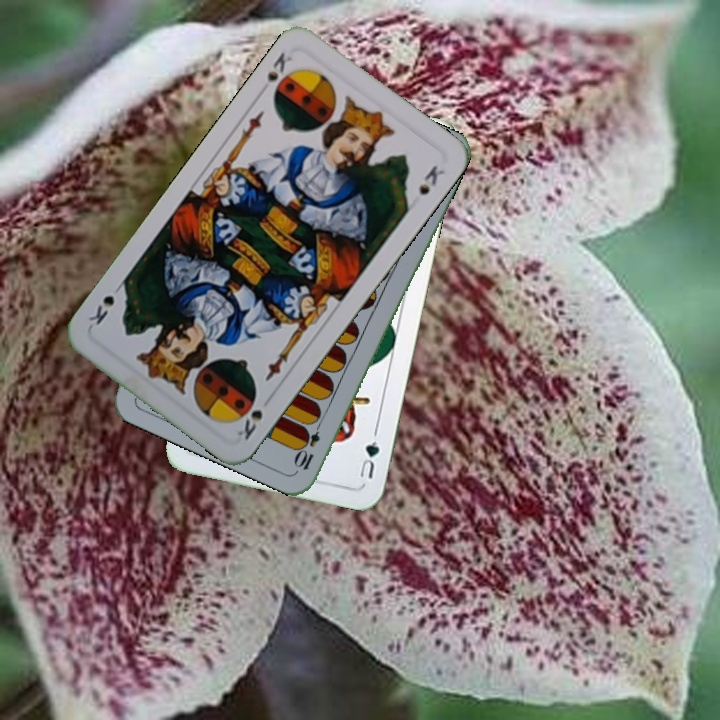E10: (292, 415, 325, 473)
GU: (355, 437, 382, 481)
SK: (233, 392, 275, 443), (262, 47, 299, 103)
